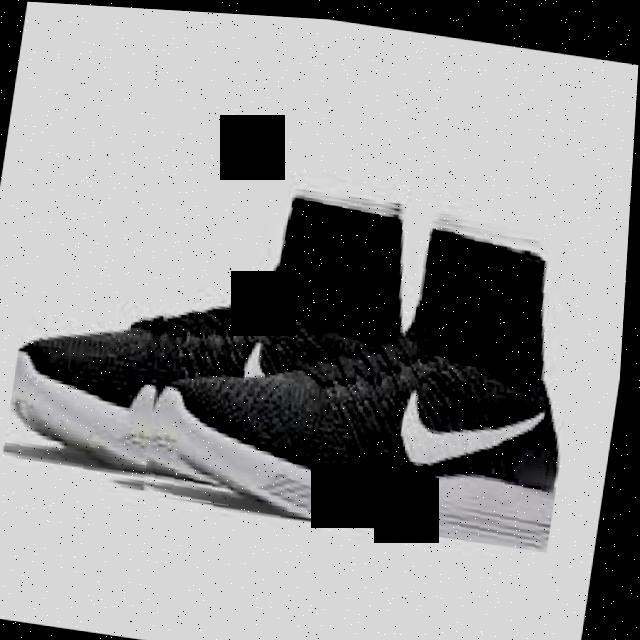shoe: (3, 145, 608, 553), (137, 164, 598, 546)
